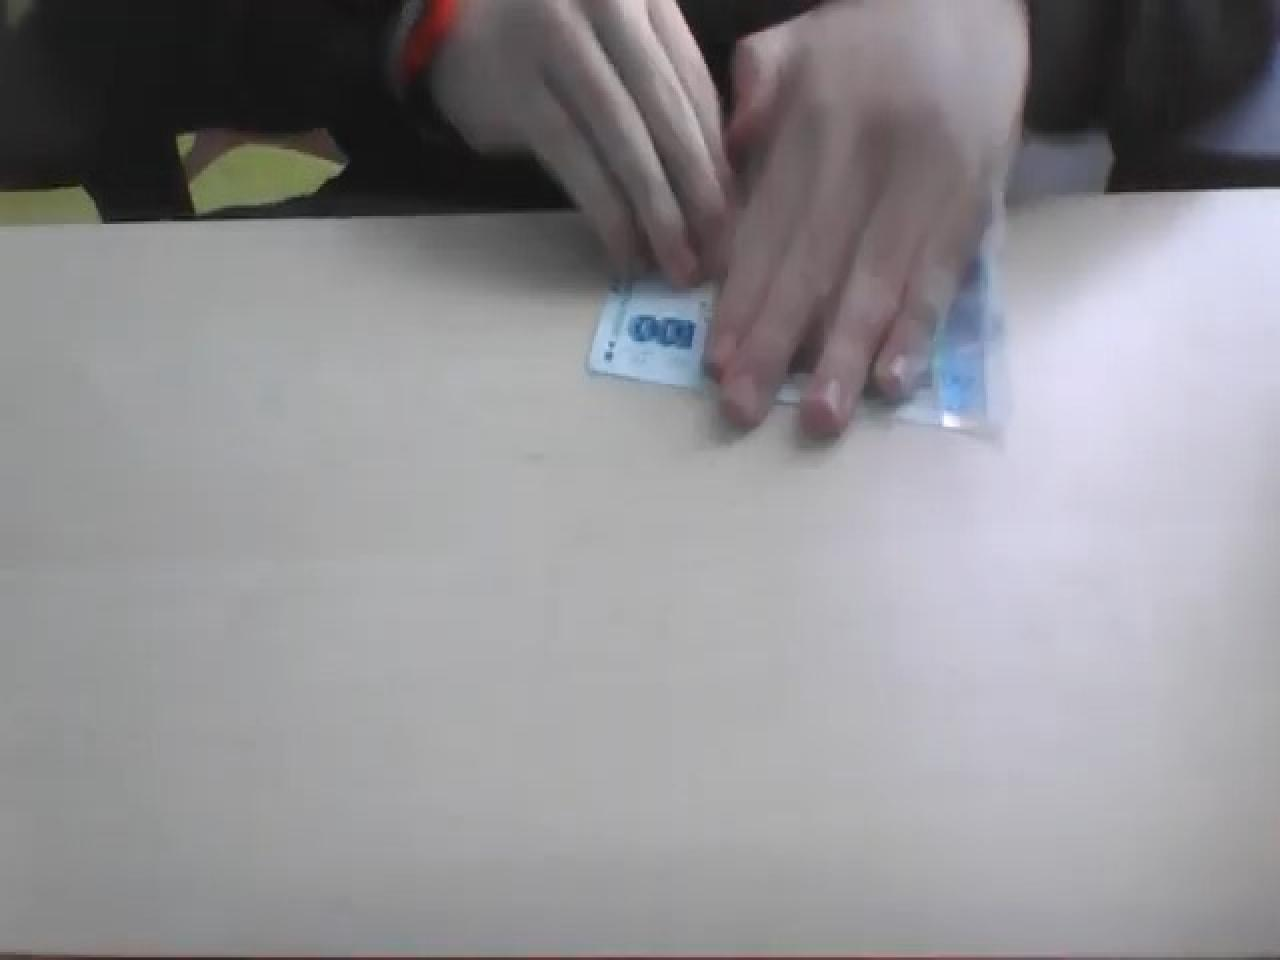100leva: (586, 253, 1006, 440), (588, 274, 722, 389), (628, 310, 698, 350)
